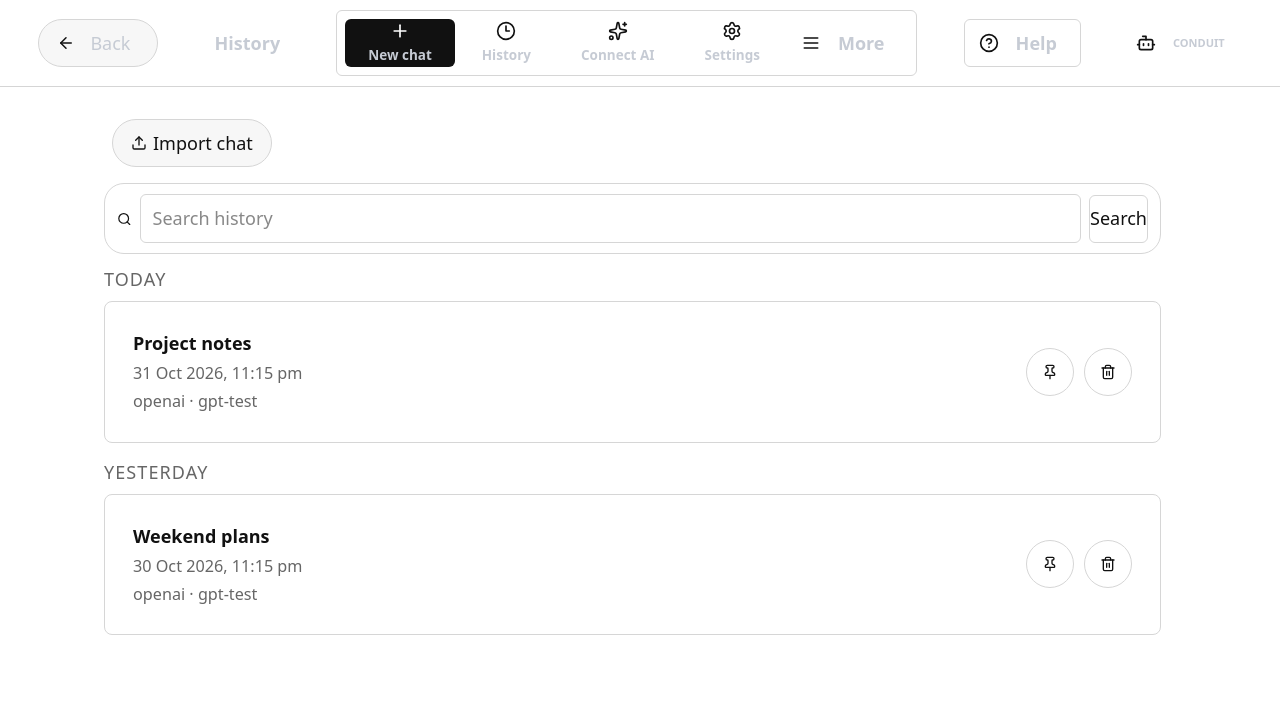
Scenario: history page › confirms deletion and traps focus until Escape or an action closes the dialog
Click the button named "Delete Project notes" at (1108,372), box [1084, 348, 1132, 396]
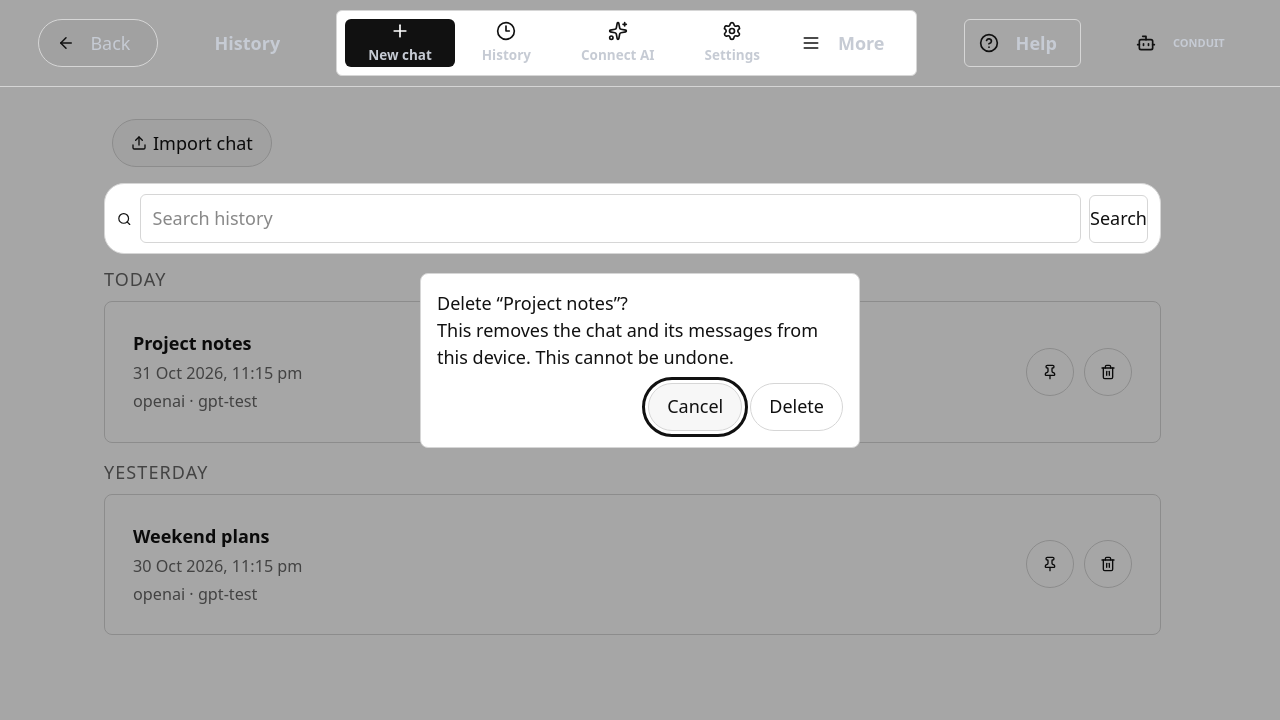
Expected: the heading "Delete “Project notes”?" is shown, [437, 290, 628, 314]
Type keys "{Shift>}{Tab}{/Shift}"
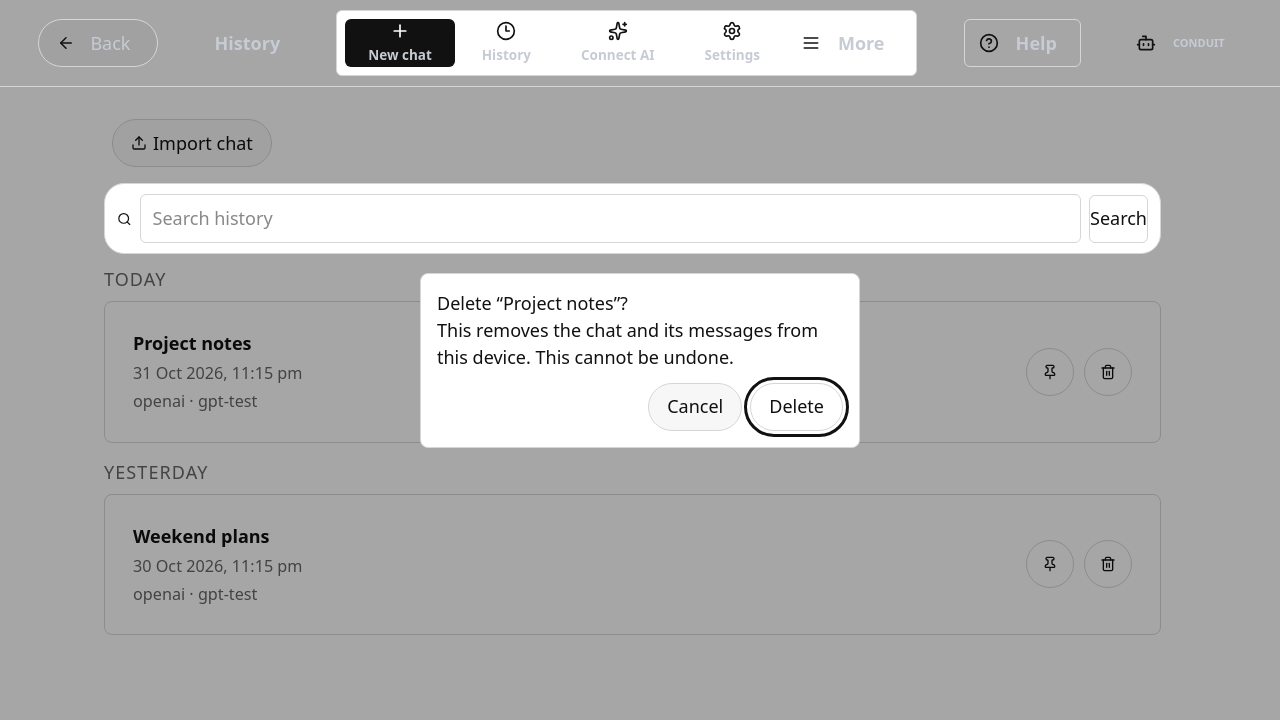
Press Tab
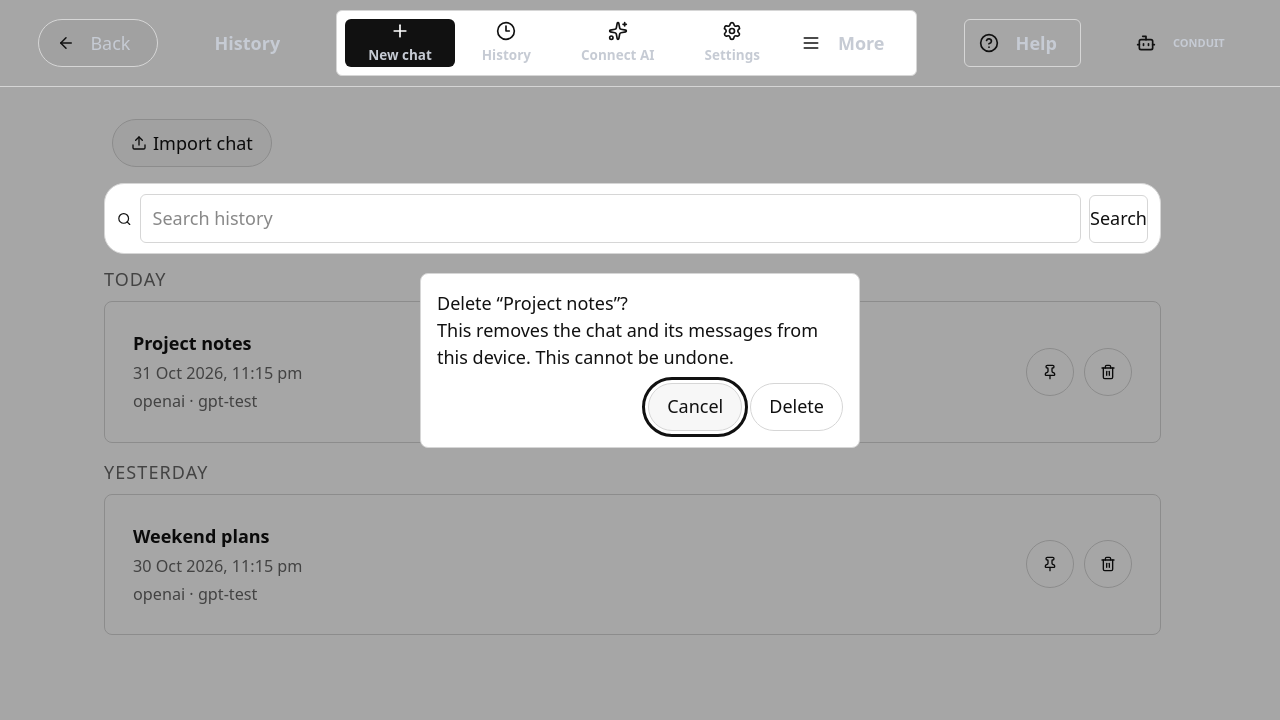
Press Escape
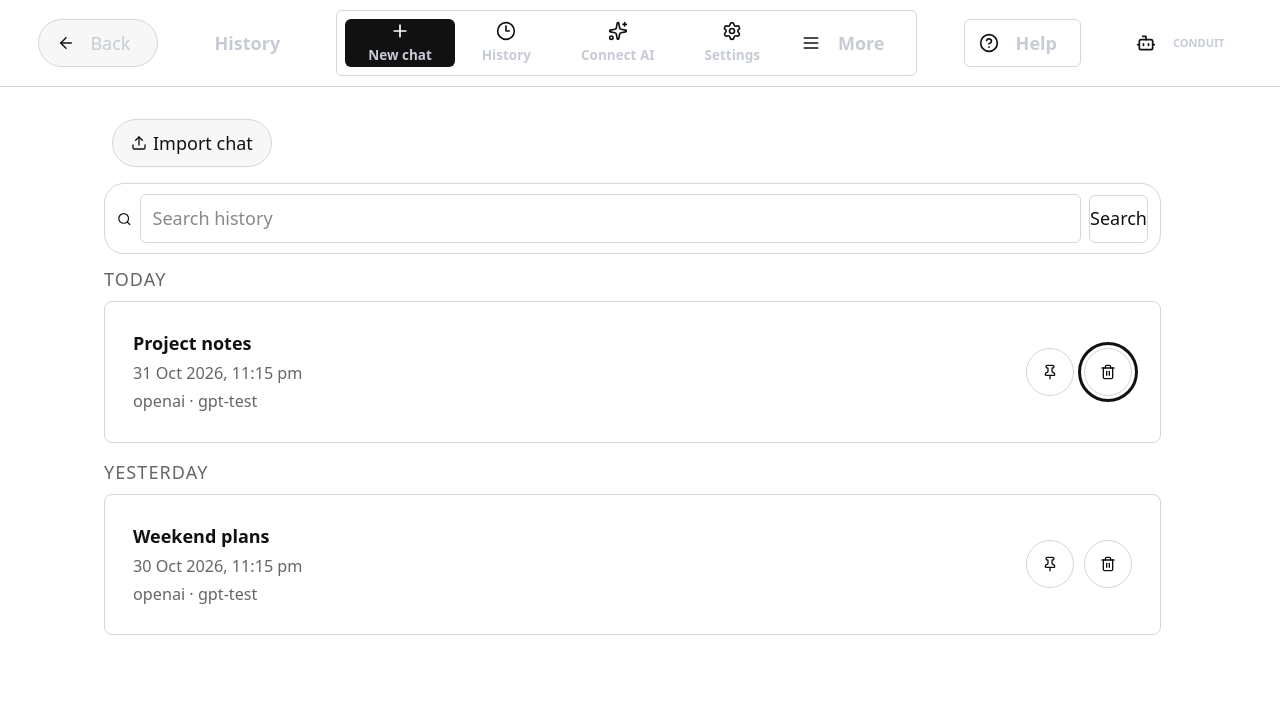
Expected: the dialog is gone
Click the button named "Delete Project notes" at (1108,372), box [1084, 348, 1132, 396]
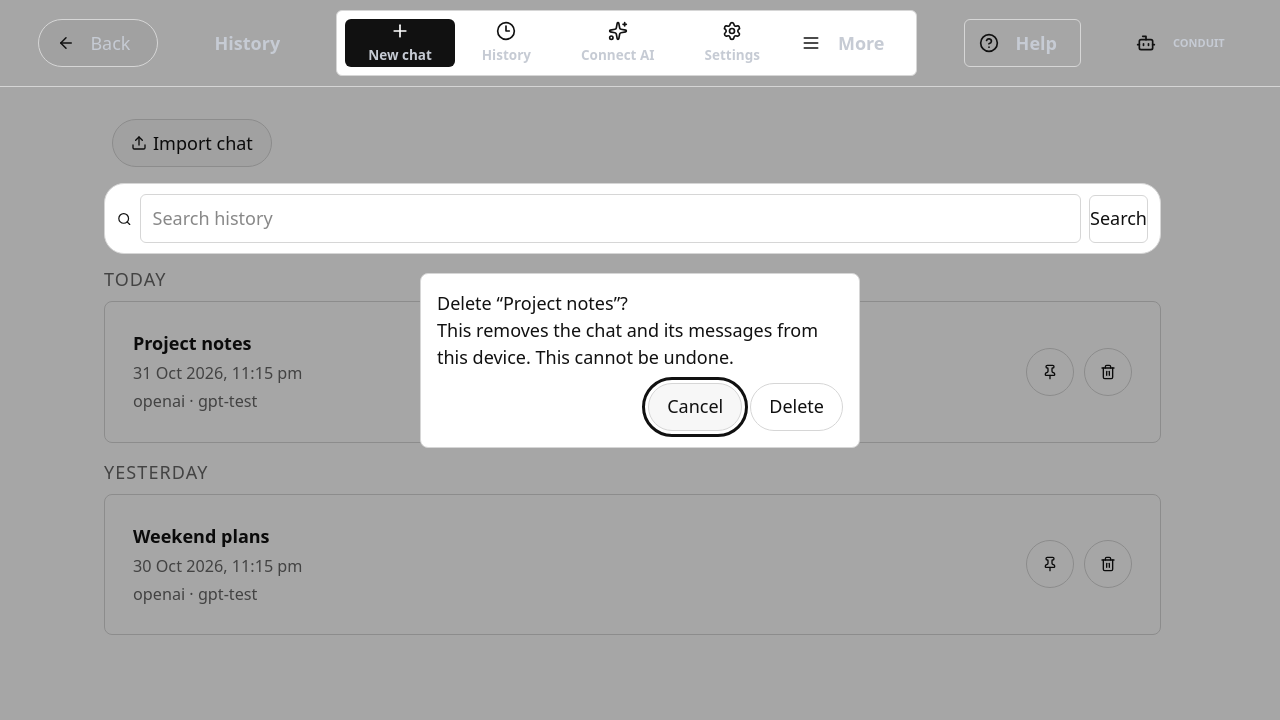
Click the button "Delete" at (797,406), box [750, 382, 843, 430]
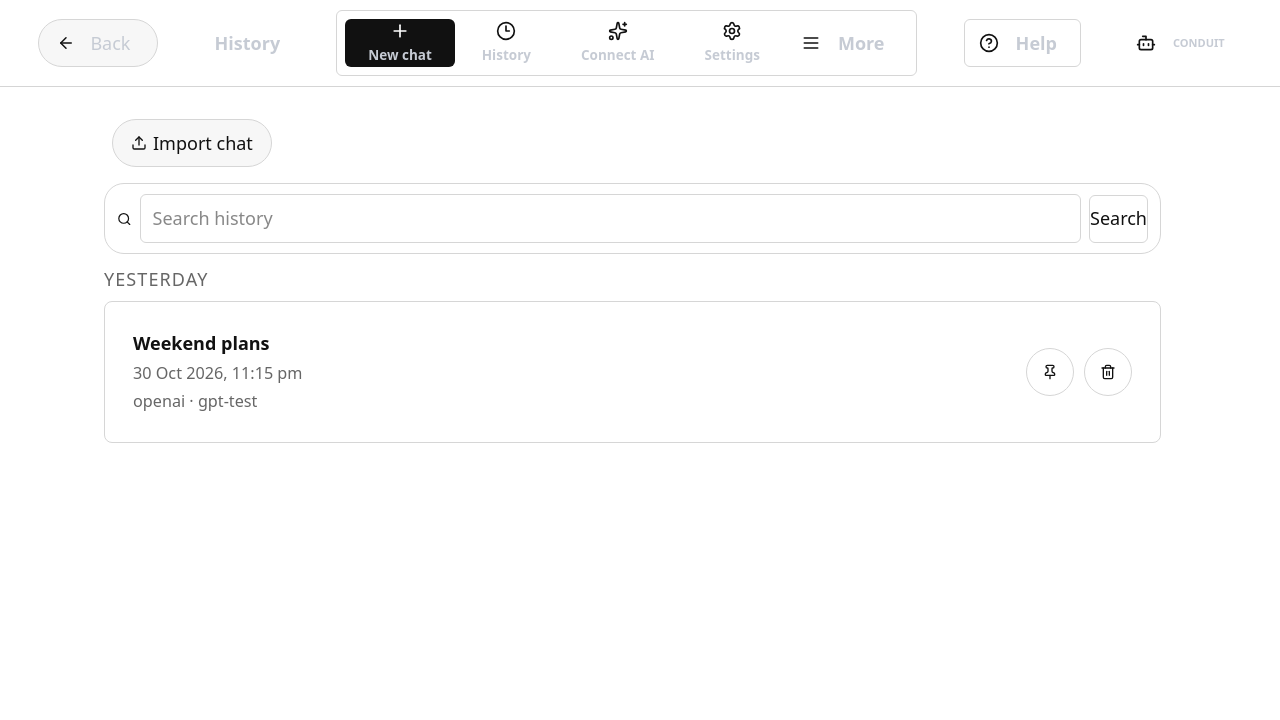
Expected: the button "Project notes" is gone
